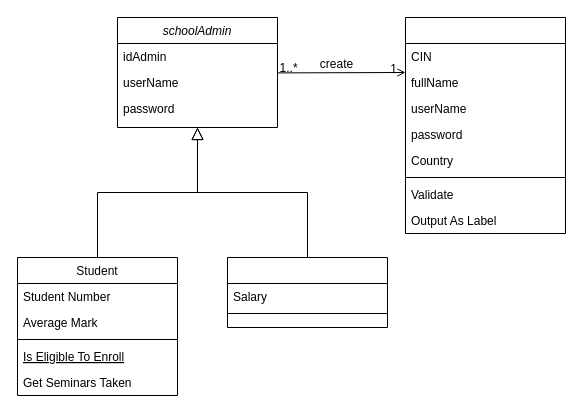
Image size: 583x416. Some labels were removed from this diagram. Each missing label, with the box of its shape:
Professor: (226, 256, 388, 328)
teachersAccounts: (404, 16, 566, 234)
